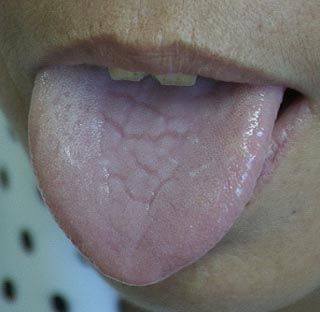baitaishe: (28, 64, 285, 286)
